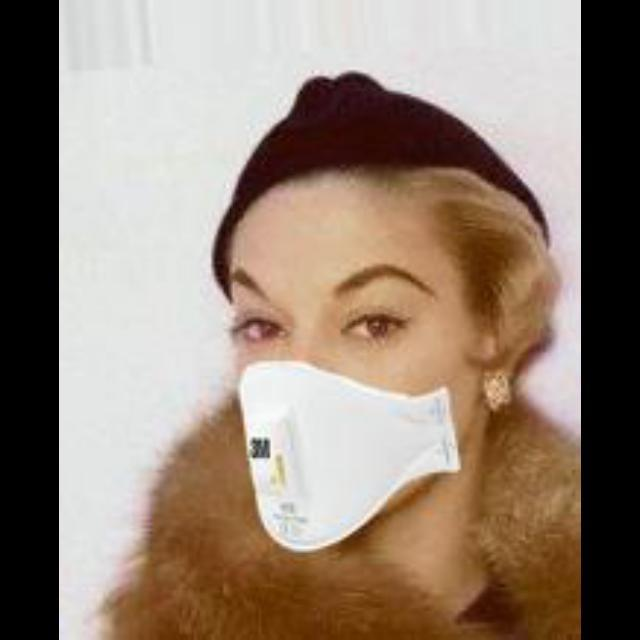suspicion: (228, 126, 572, 540)
